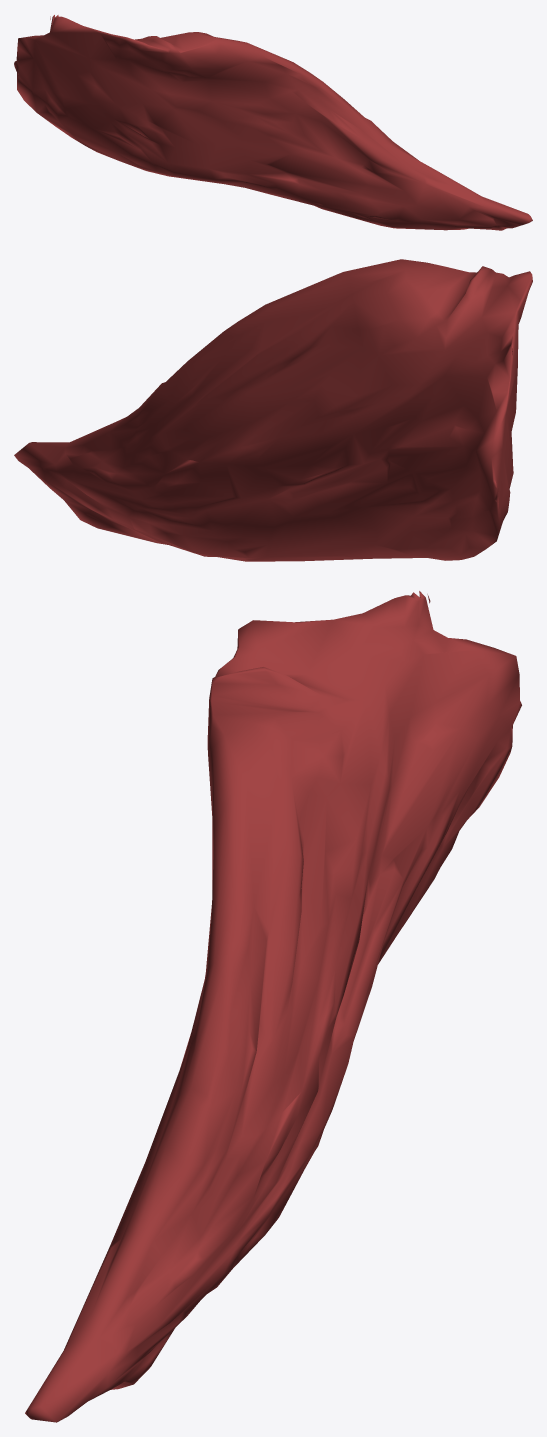
Rendered from piriformis-muscle-l.glb.
The picture shows the model from 3 angles, top to bottom: view 1: azimuth 30°, elevation 25°; view 2: azimuth 150°, elevation 25°; view 3: azimuth 270°, elevation 25°; orthographic projection. The views are drawn at different scales.
Visible parts, largest first — view 1: Piriformis muscle.l; view 2: Piriformis muscle.l; view 3: Piriformis muscle.l.
Boxes of the visible parts, box(x1,y1,x2,y2) form: Piriformis muscle.l: box(14, 15, 532, 230); Piriformis muscle.l: box(14, 259, 532, 561); Piriformis muscle.l: box(25, 591, 521, 1422).
Bounding box in the file's own units: 0.11 × 0.0631 × 0.0593.
